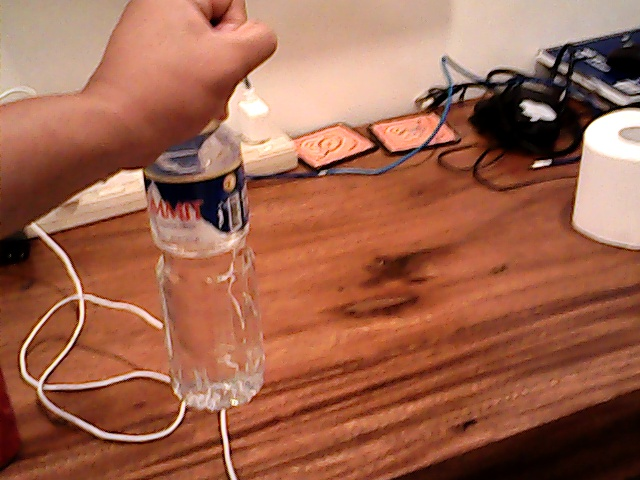Summit Water: (146, 136, 276, 402)
